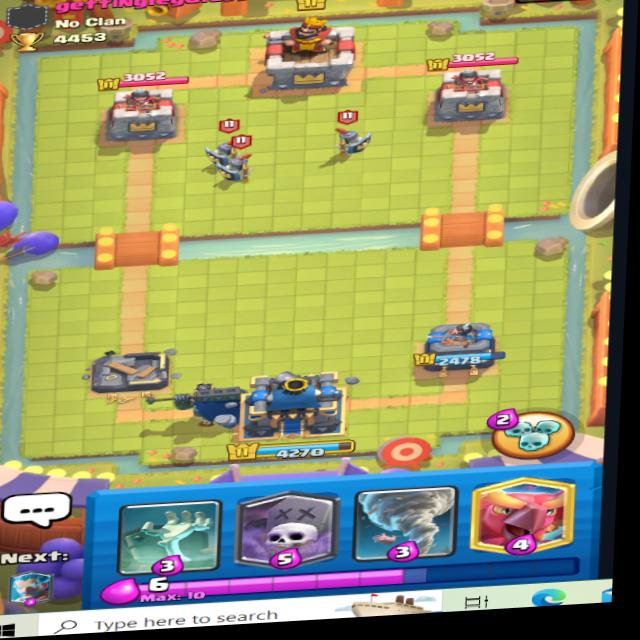guards: (332, 107, 392, 164), (216, 135, 262, 188), (200, 117, 238, 160)
